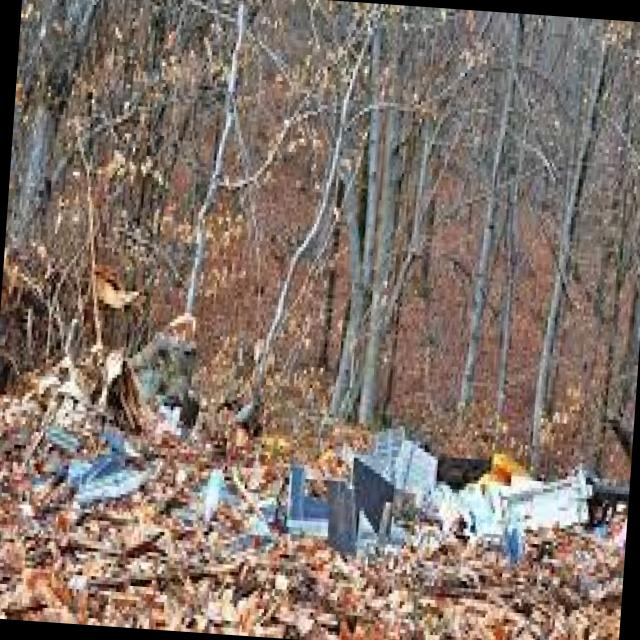garbage: (21, 362, 626, 585)
